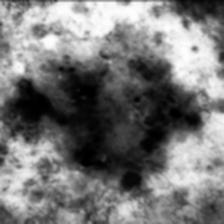Potentially Malignant Skin Tumors: (51, 58, 205, 206)
